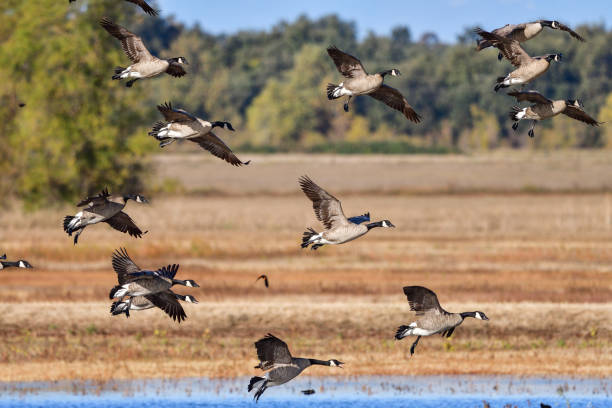goose: (323, 43, 425, 127), (297, 172, 397, 252), (390, 283, 493, 358), (245, 332, 346, 406), (146, 99, 253, 168), (98, 17, 191, 91), (471, 25, 566, 91), (57, 185, 153, 249), (505, 86, 607, 139), (468, 19, 591, 59), (105, 245, 200, 295), (106, 292, 200, 324), (1, 249, 34, 273)
